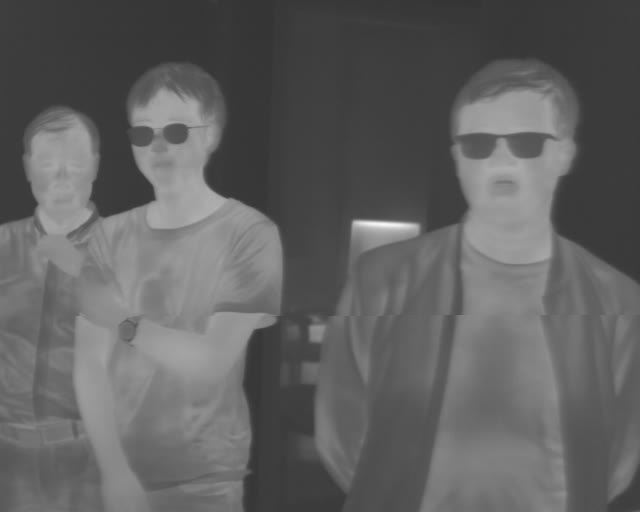face: (449, 55, 580, 226), (124, 59, 227, 192), (21, 103, 102, 224)
